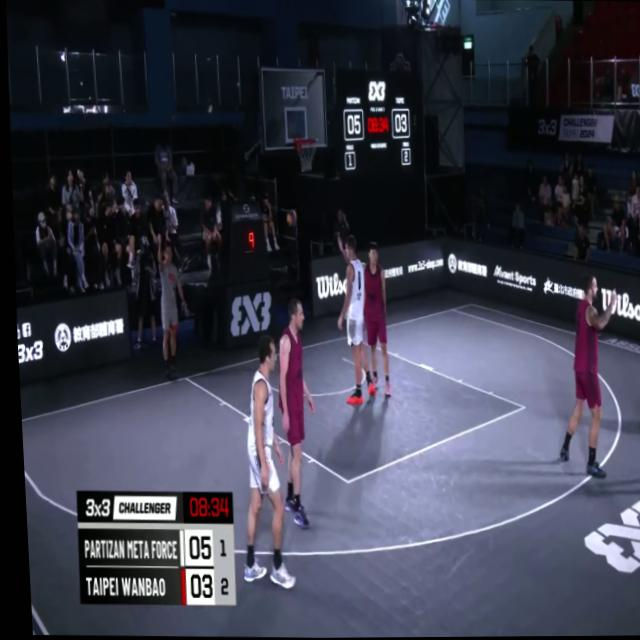hoop: (290, 129, 319, 173)
player: (225, 337, 292, 592), (545, 277, 619, 482), (267, 302, 316, 534), (329, 233, 373, 405), (354, 240, 389, 399), (635, 282, 640, 495)
